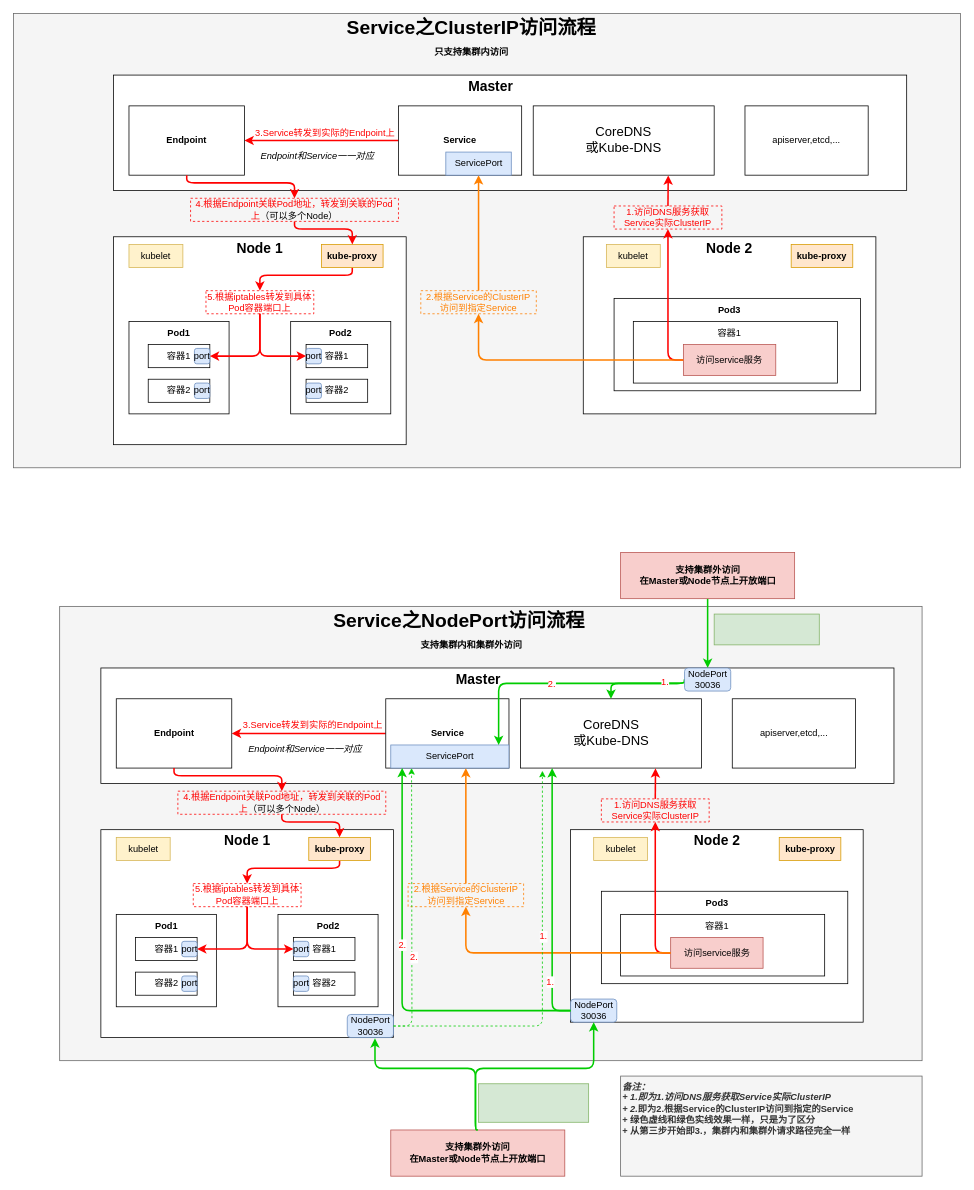
Image size: 974x1190. Some labels were removed from this diagram. Each missing label, with the box of its shape:
访问master节点： 192.168.136.151:30036: (713, 613, 819, 645)
访问node节点： 192.168.136.152:30036 192.168.136.153:30036: (478, 1083, 589, 1122)
